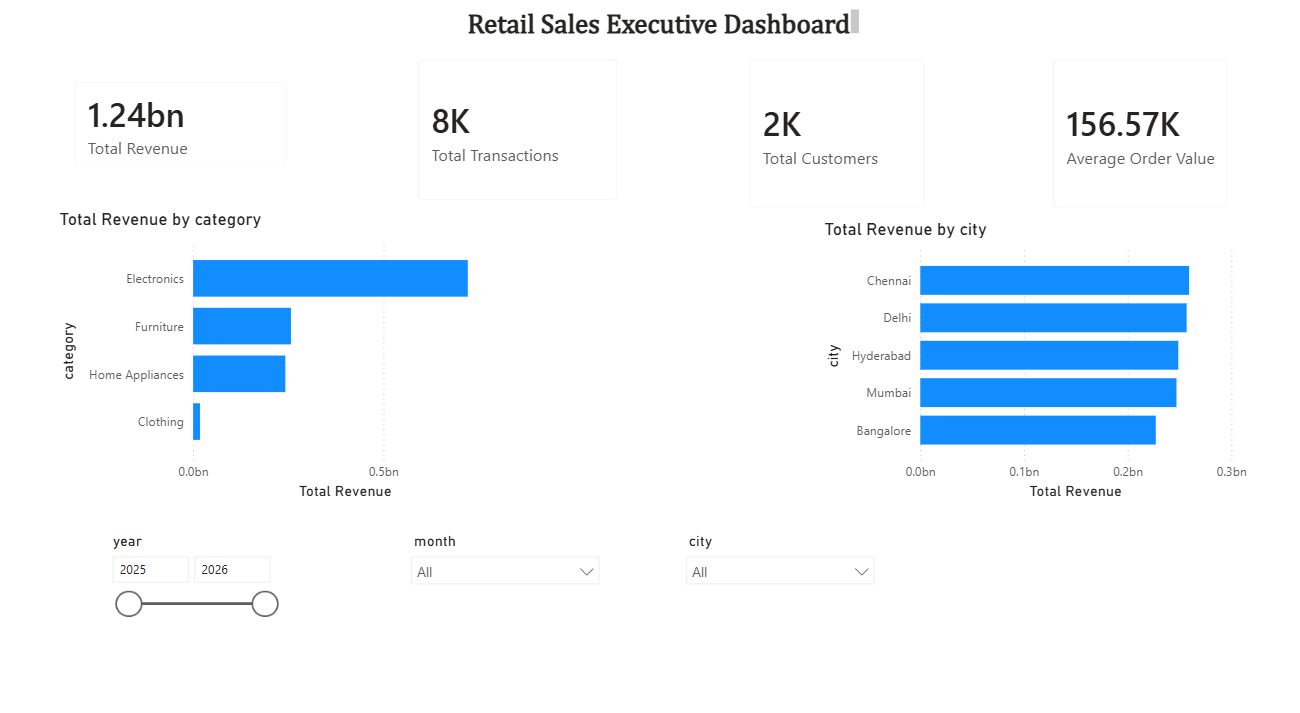

The dashboard page shown, as its layout file describes it:
{"tool":"powerbi","page":{"name":"Executive Dashboard","canvas":[1280,720],"ordinal":0},"visuals":[{"type":"cardVisual","fields":{"Data":["cleaned_retail_data.Total Revenue"]},"box":[58.7,70.9,242.1,116.2],"z":0},{"type":"cardVisual","fields":{"Data":["cleaned_retail_data.Total Transactions"]},"box":[395,48.9,229.9,172.4],"z":1000},{"type":"cardVisual","fields":{"Data":["cleaned_retail_data.Total Customers"]},"box":[719,48.9,205.4,179.8],"z":2000},{"type":"cardVisual","fields":{"Data":["cleaned_retail_data.Average Order Value"]},"box":[1016.2,48.9,205.4,179.8],"z":3000},{"type":"clusteredBarChart","fields":{"Category":["cleaned_retail_data.category"],"Y":["cleaned_retail_data.Total Revenue"]},"box":[56.3,211.6,453.7,289.8],"z":4000},{"type":"clusteredBarChart","fields":{"Category":["cleaned_retail_data.city"],"Y":["cleaned_retail_data.Total Revenue"]},"box":[804.6,221.3,423.1,280],"z":5000},{"type":"slicer","fields":{"Values":["cleaned_retail_data.year"]},"box":[100,522.9,182.9,197.1],"z":6000},{"type":"slicer","fields":{"Values":["cleaned_retail_data.month"]},"box":[395,523.4,204.2,196.9],"z":7000},{"type":"slicer","fields":{"Values":["cleaned_retail_data.city"]},"box":[664.3,522.9,204.3,197.1],"z":8000},{"type":"textbox","box":[453.7,12.2,395,36.7],"z":9001}]}

Visuals, with their boxes in screenshot pixels (x1, y1, x2, y2), scaled from the page's 1280x720 canvas onto the 1300x713 screenshot:
cardVisual - cleaned_retail_data.Total Revenue: [60, 70, 306, 185]
cardVisual - cleaned_retail_data.Total Transactions: [401, 48, 635, 219]
cardVisual - cleaned_retail_data.Total Customers: [730, 48, 939, 226]
cardVisual - cleaned_retail_data.Average Order Value: [1032, 48, 1241, 226]
clusteredBarChart - cleaned_retail_data.category x cleaned_retail_data.Total Revenue: [57, 210, 518, 497]
clusteredBarChart - cleaned_retail_data.city x cleaned_retail_data.Total Revenue: [817, 219, 1247, 496]
slicer - cleaned_retail_data.year: [102, 518, 287, 712]
slicer - cleaned_retail_data.month: [401, 518, 609, 712]
slicer - cleaned_retail_data.city: [675, 518, 882, 712]
textbox: [461, 12, 862, 48]
